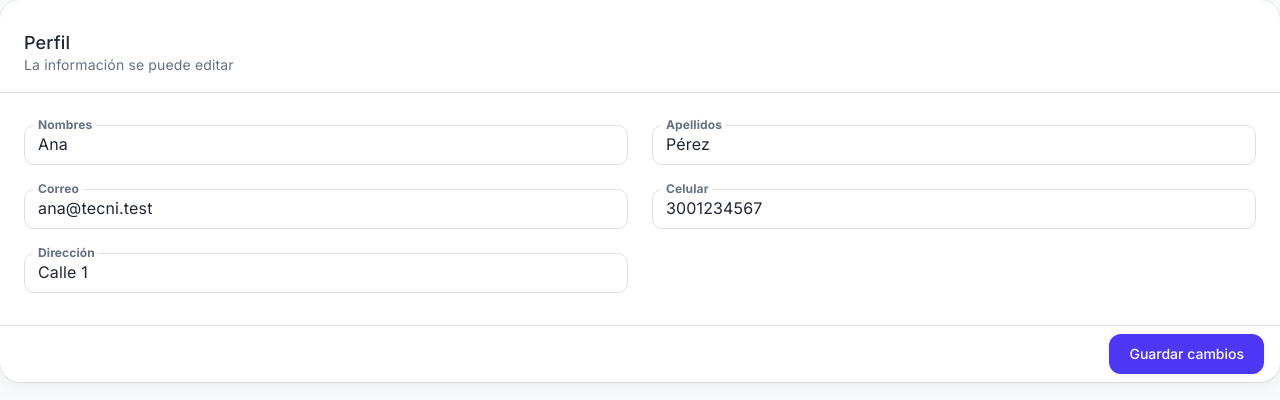
AccountDetailsForm › muestra el error al guardar
Expected: the field labelled "Nombres" holds "Ana", left=24, top=125, right=628, bottom=165
Step 1. Click the button "Guardar cambios" → (1187, 354), box left=1110, top=334, right=1264, bottom=374
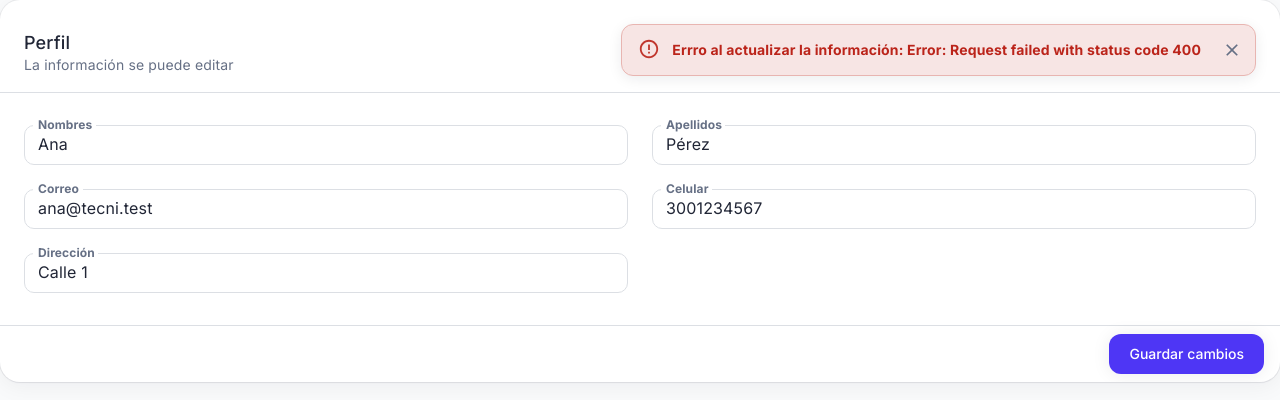
Result: the text "Errro al actualizar la información:" is shown at left=672, top=41, right=1201, bottom=58
